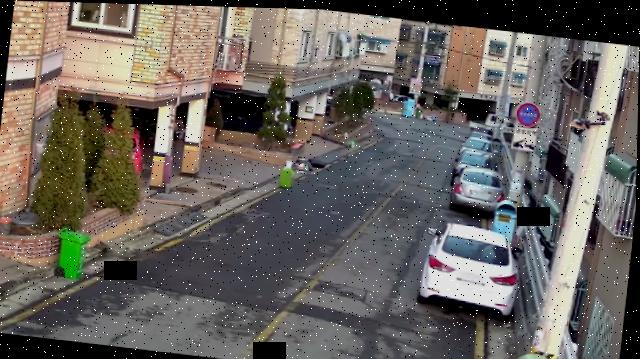bag: (280, 166, 296, 187)
